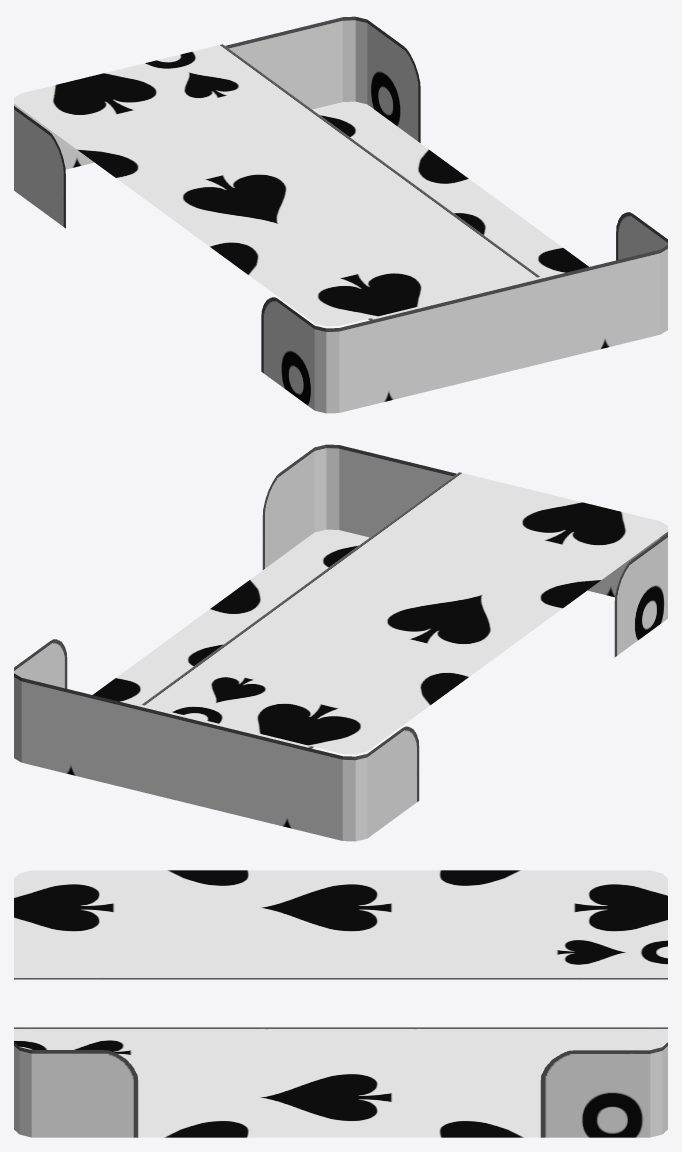
The model's file is ManyDeck_00.fbx.
The picture shows the model from 3 angles, top to bottom: view 1: azimuth 30°, elevation 25°; view 2: azimuth 150°, elevation 25°; view 3: azimuth 270°, elevation 25°; orthographic projection. The views are drawn at different scales.
Visible parts, largest first — view 1: b01_deck; view 2: b01_deck; view 3: b01_deck.
Boxes of the visible parts, left/top/right/bottom form: b01_deck: left=14, top=16, right=667, bottom=413; b01_deck: left=14, top=444, right=667, bottom=841; b01_deck: left=14, top=870, right=667, bottom=1137.
Size of the model in its own units: 5.7 by 1.34 by 8.87.
